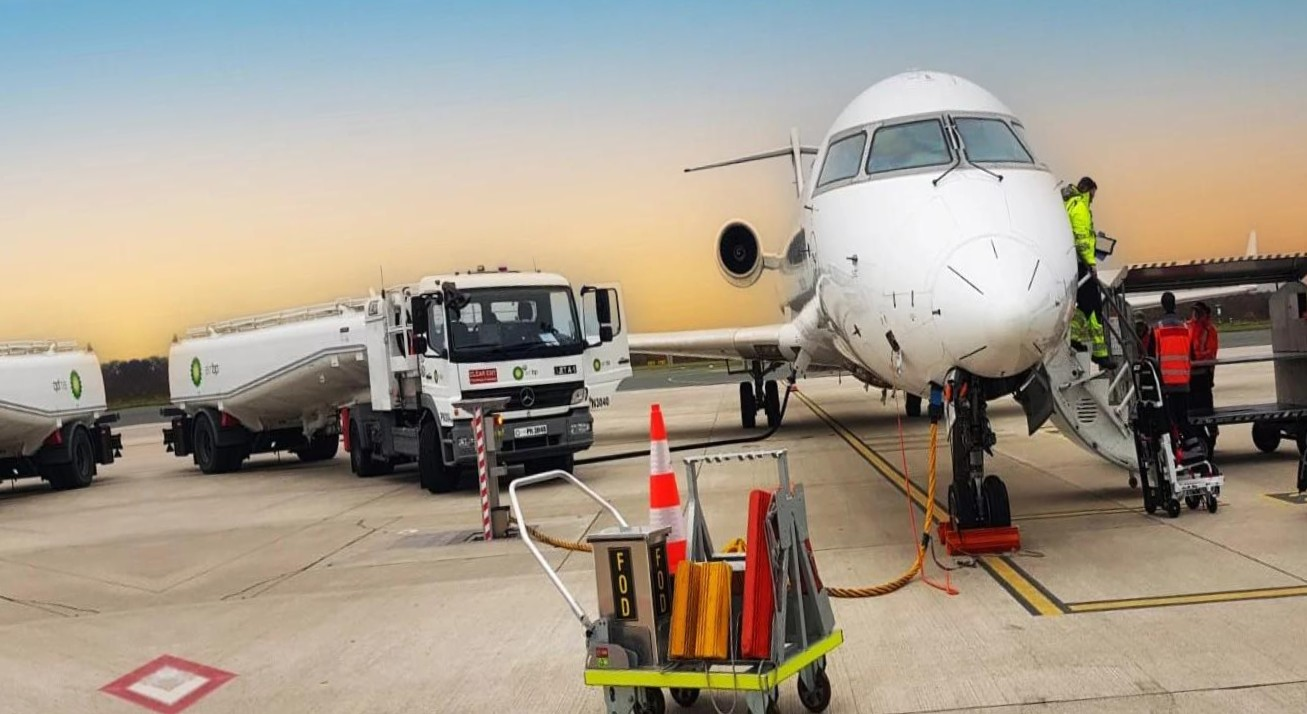chock: (723, 485, 797, 664), (657, 555, 711, 663), (686, 555, 740, 663)
wheel: (415, 413, 469, 495), (44, 425, 97, 493), (190, 409, 242, 478), (345, 408, 383, 476), (288, 418, 343, 463), (977, 472, 1014, 531), (945, 473, 979, 533), (524, 449, 577, 485), (1249, 418, 1283, 454)
